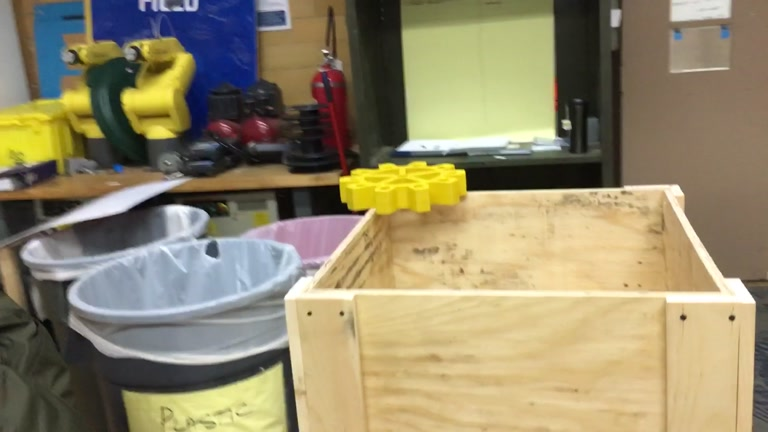gear: (338, 159, 466, 217)
